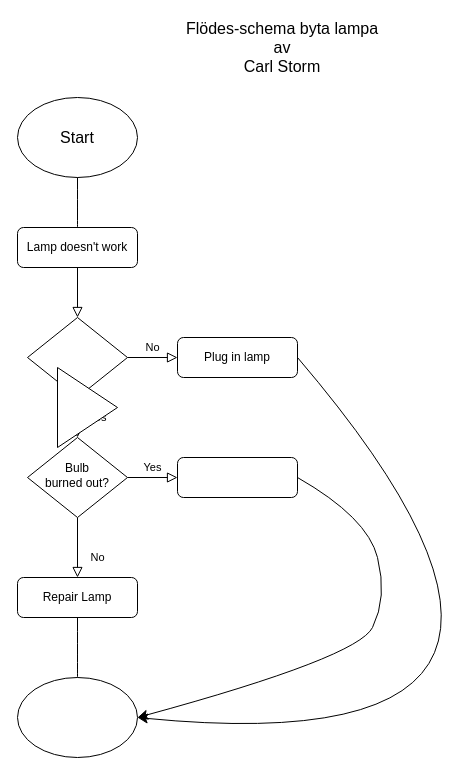
Some shapes in this 459 by 775 pixel diagram are drawn without their labels. Here are the shapes that lost their labels. From the top down, the centre of each, then its label:
At (77,357): "Lamp plugged in?".
At (237,477): "Replace Bulb".
At (77,717): "End".
